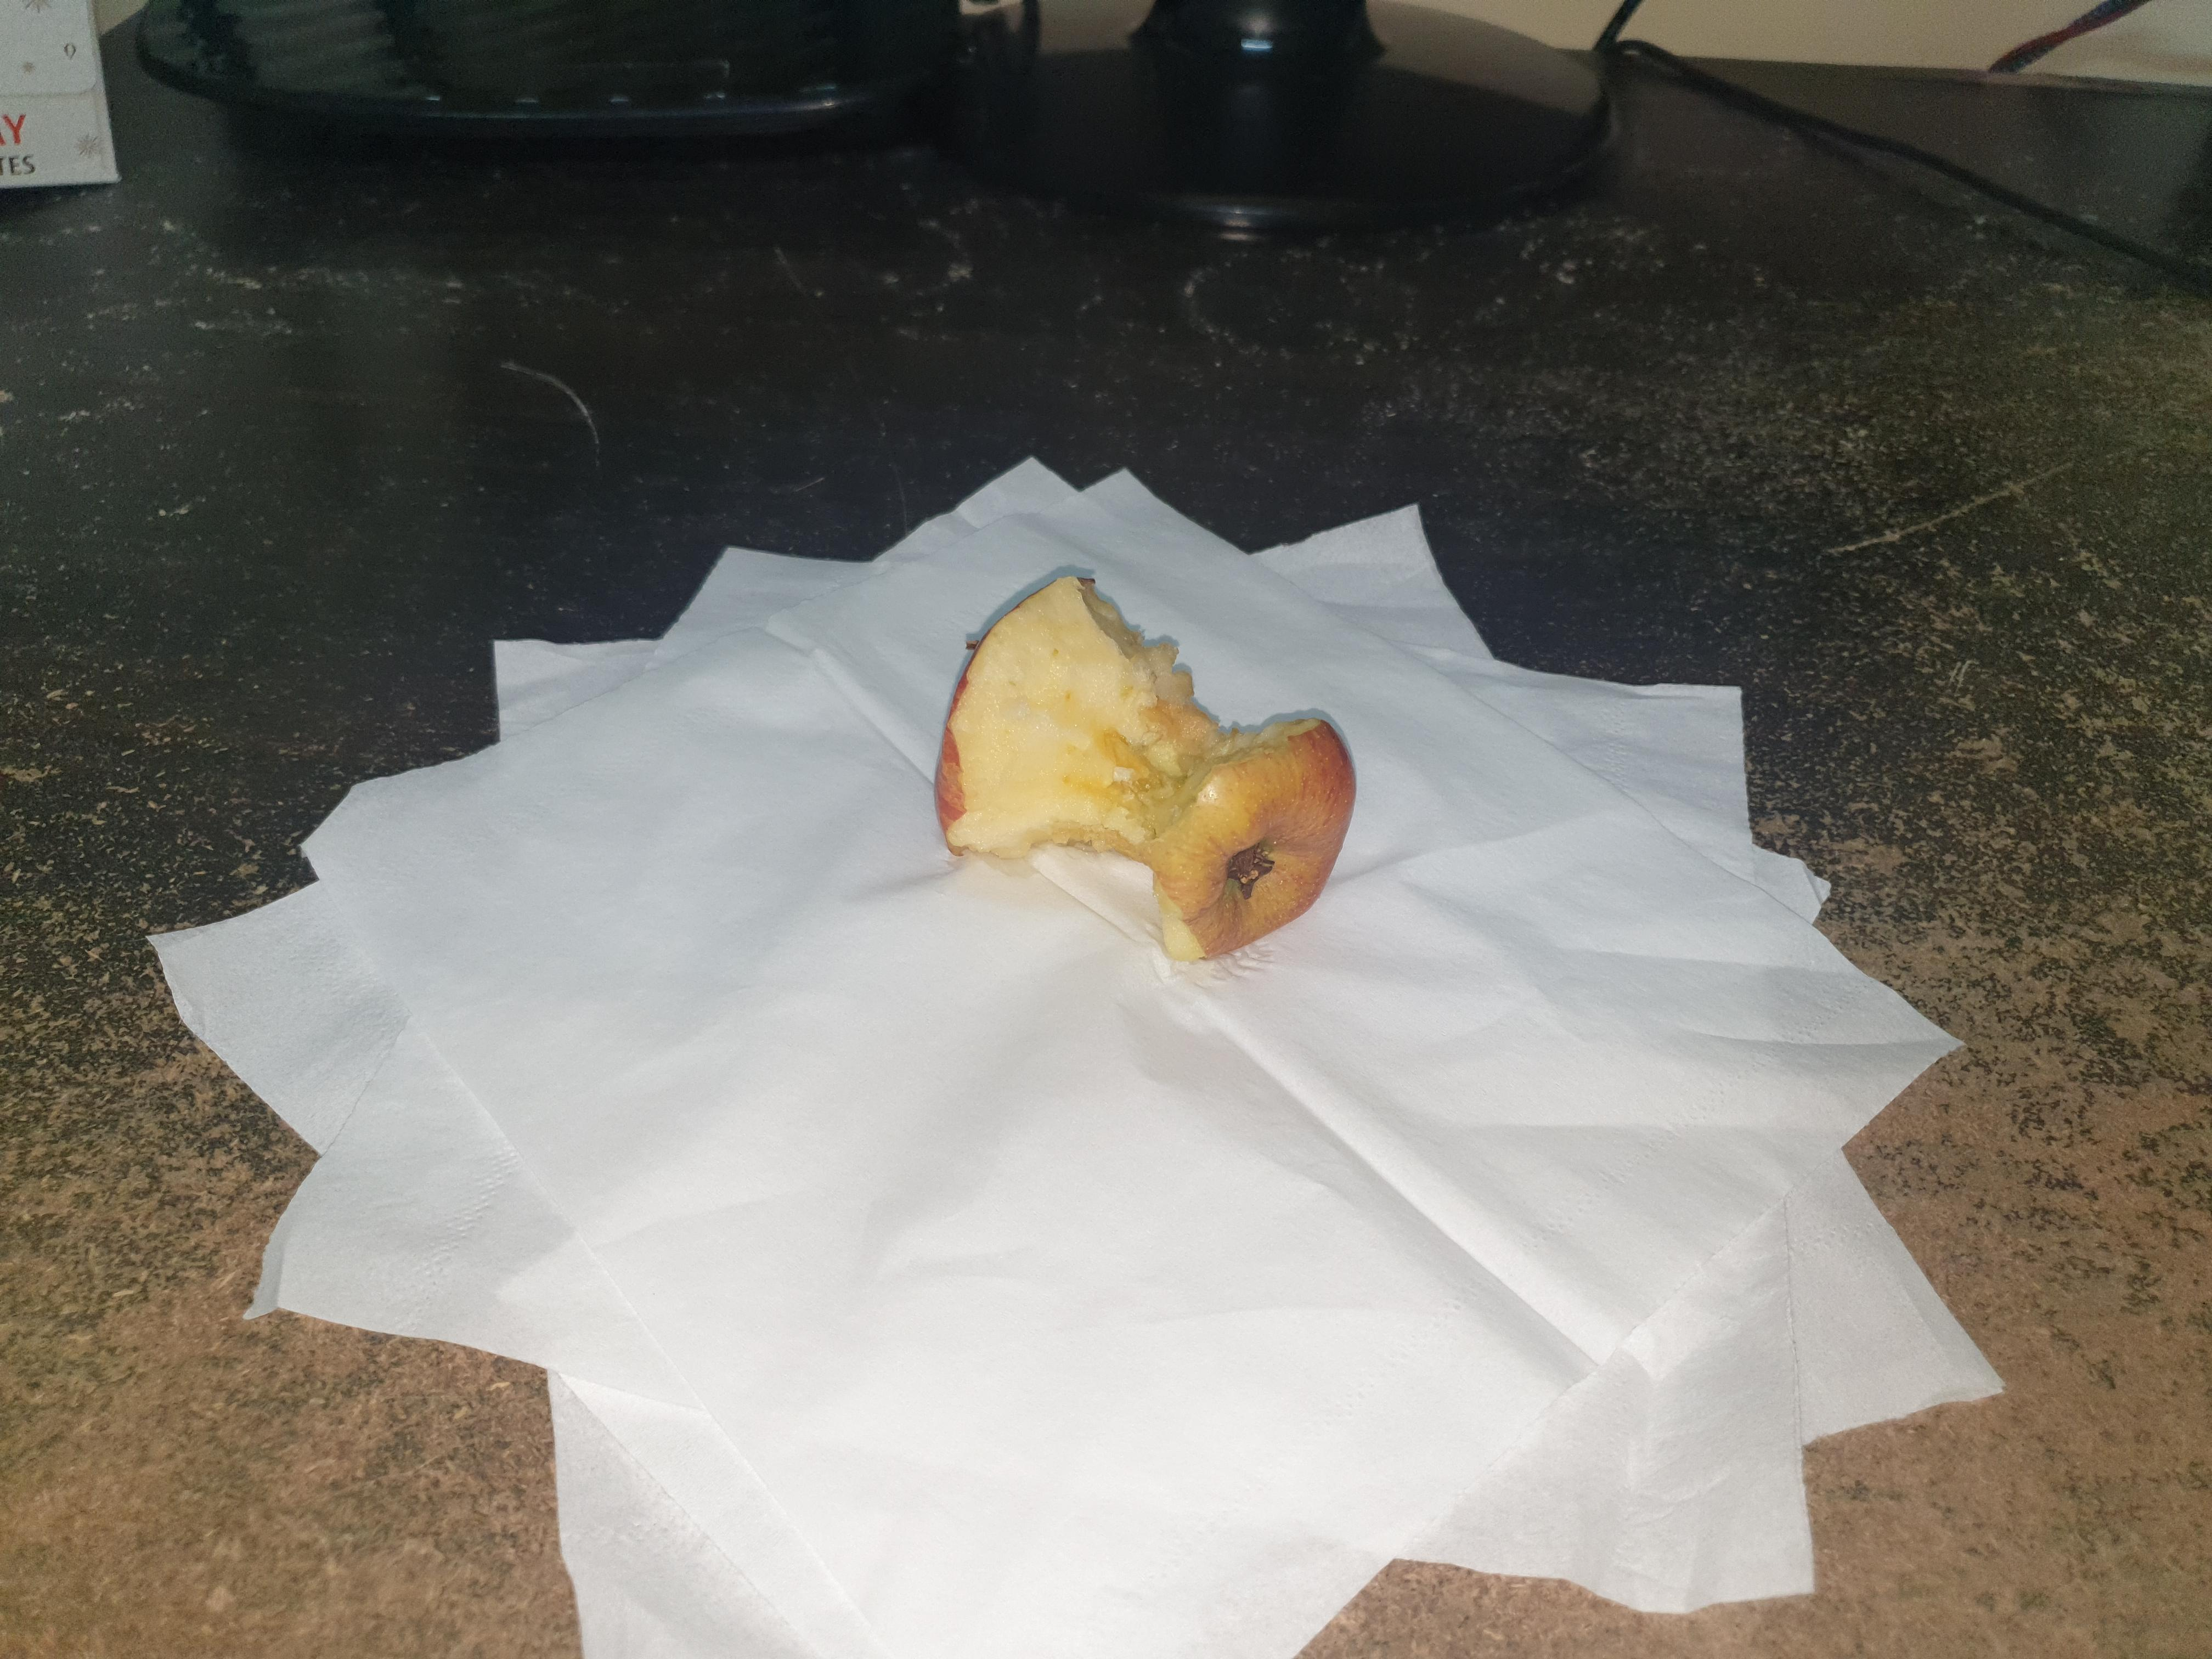Apple: (923, 552, 1379, 967)
